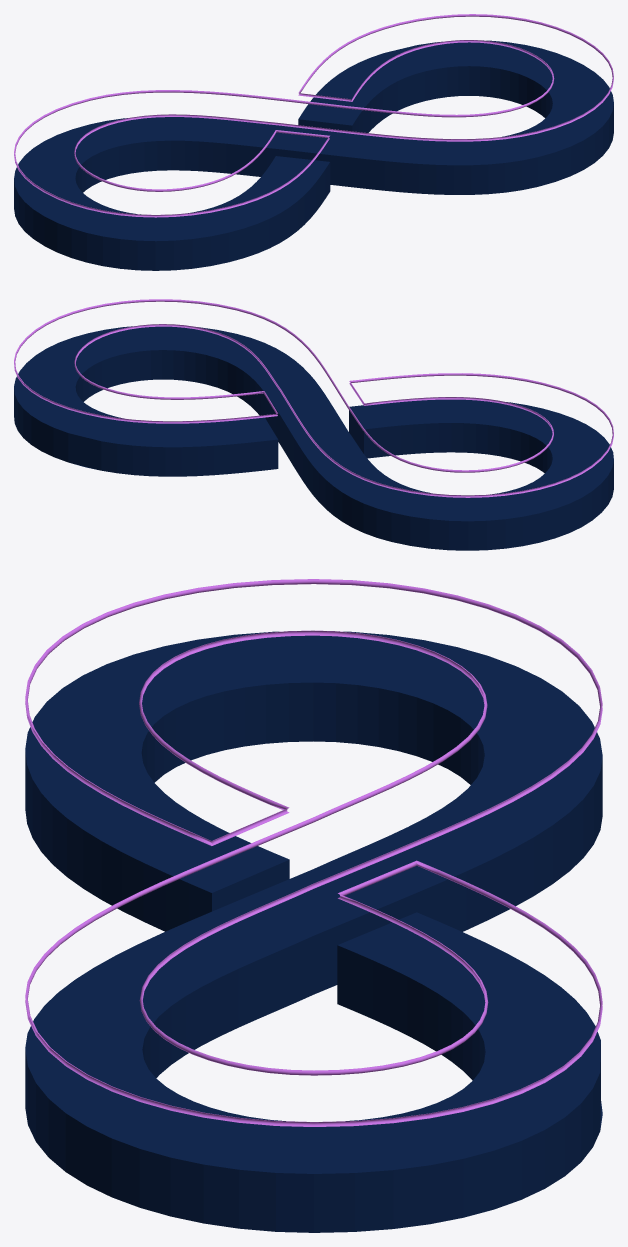
The model's file is Infinity01.gltf.
3 views of the same model, one above another, from view 1: azimuth 30°, elevation 25°; view 2: azimuth 150°, elevation 25°; view 3: azimuth 270°, elevation 25° (orthographic). The views are drawn at different scales.
Parts seen in each view (by area): view 1: Curve, Curve.001; view 2: Curve, Curve.001; view 3: Curve, Curve.001.
Part boxes in pixels (x1,y1,x2,y2): Curve: [14, 40, 613, 270]; Curve.001: [14, 14, 613, 217]; Curve: [14, 326, 613, 550]; Curve.001: [14, 299, 613, 497]; Curve: [25, 631, 602, 1232]; Curve.001: [25, 579, 602, 1126].
Bounding box in the file's own units: 8.87 × 0.8424 × 3.98.
